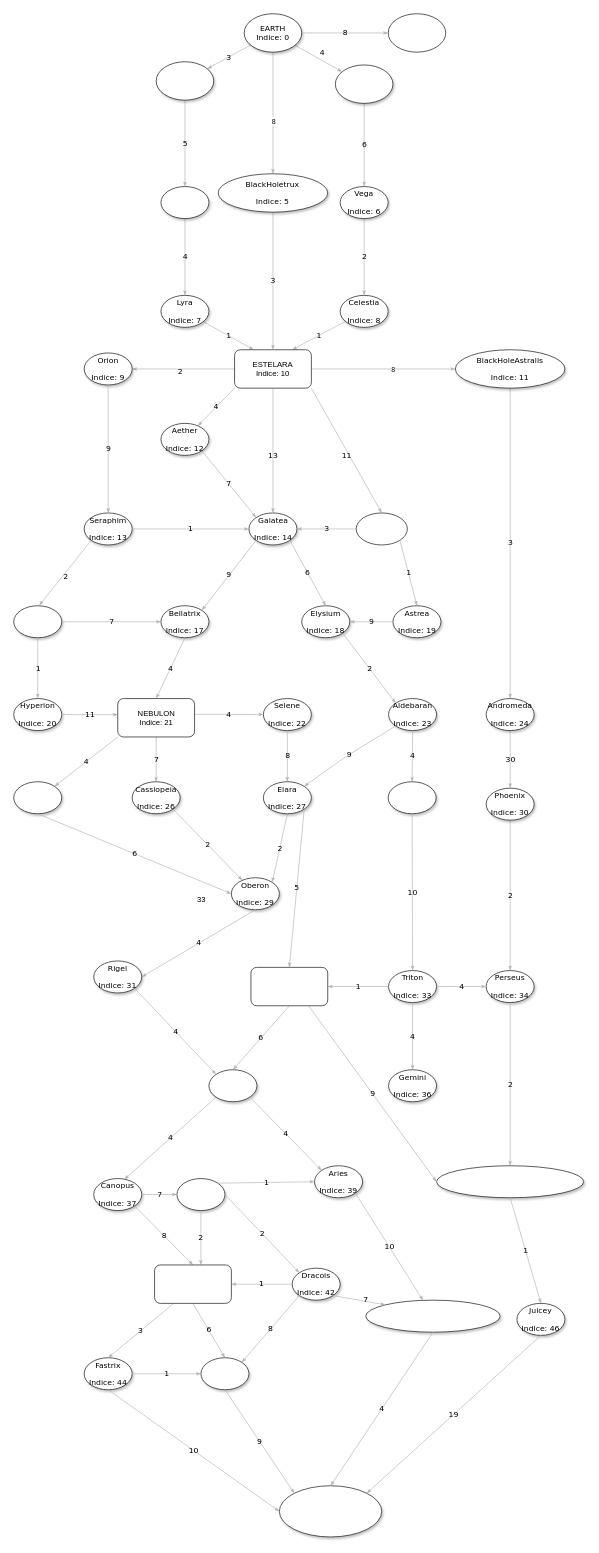
Image size: 599x1553. Some labels were removed from this diagram. Each missing label, with the centre of its shape:
Altair Indice: 15: point (381, 528)
Arcturus Indice: 25: point (38, 798)
Bellona Indice: 35: point (233, 1086)
BlackHoleLyxre Indice: 40: point (510, 1182)
BlackHoleYung Indice: 43: point (433, 1317)
Capella Indice: 38: point (201, 1195)
CENTAURIPRIME Indice: 32: point (289, 986)
GALACTIS Indice: 41: point (192, 1283)
HOMESTEAD II Indice: 47: point (331, 1512)
Nebula Indice: 4: point (185, 203)
Nova Indice: 3: point (364, 85)
Pulsar Indice: 16: point (38, 622)
Robery Indice: 45: point (225, 1374)
Sirius Indice: 28: point (412, 798)
Solstice Indice: 1: point (417, 32)
Zephyr Indice: 2: point (185, 82)
